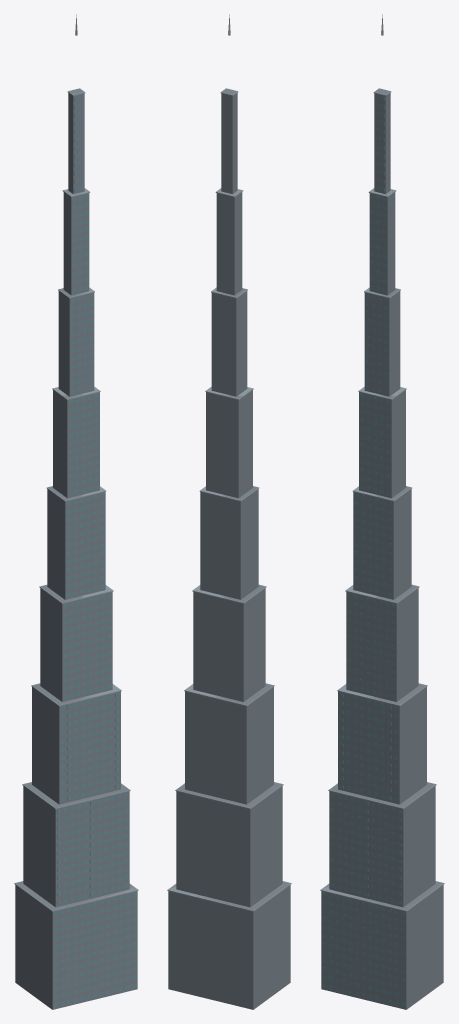
Rendered from source.glb.
The picture shows the model from 3 angles, left to right: view 1: azimuth 30°, elevation 25°; view 2: azimuth 150°, elevation 25°; view 3: azimuth 330°, elevation 25°; orthographic projection.
Visible parts, largest first — view 1: worldgen; view 2: worldgen; view 3: worldgen.
Boxes of the visible parts, box(x1,y1,x2,y2) form: worldgen: box(14, 14, 138, 1009); worldgen: box(167, 14, 291, 1009); worldgen: box(320, 14, 444, 1009).
Bounding box in the file's own units: 77 × 828 × 58.76.
